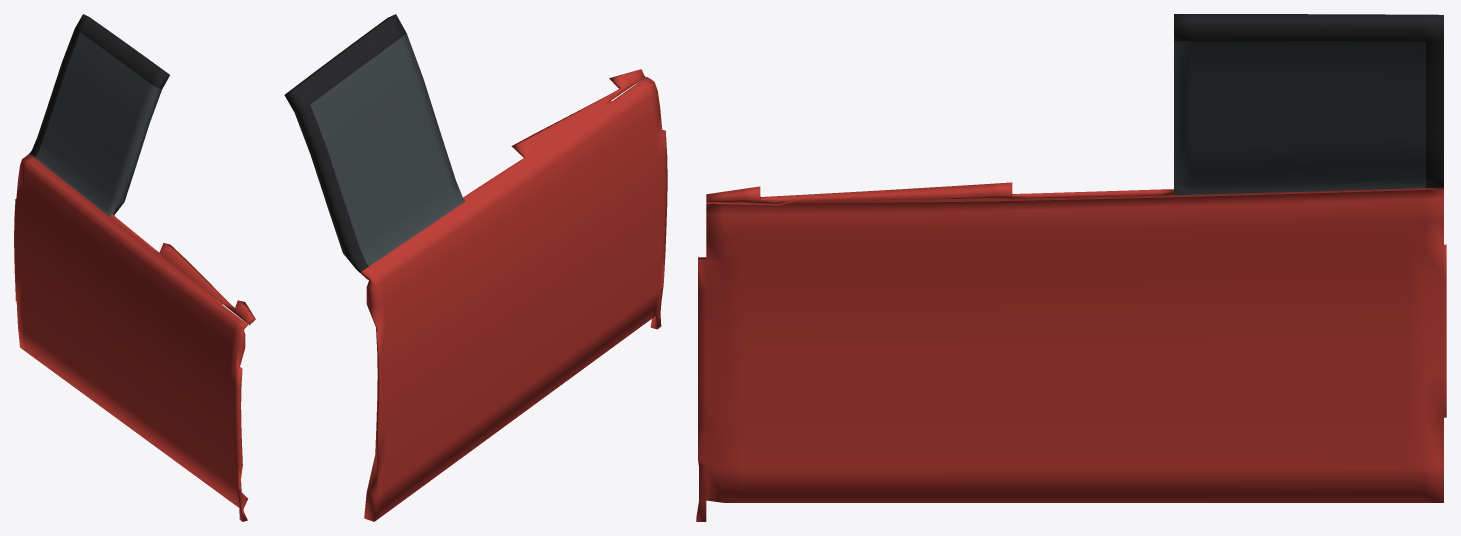
Rendered from Hatch_Door_FR.fbx.
The picture shows the model from 3 angles, left to right: view 1: azimuth 30°, elevation 25°; view 2: azimuth 150°, elevation 25°; view 3: azimuth 270°, elevation 25°; orthographic projection. The views are drawn at different scales.
Visible parts, largest first — view 1: Hatch_Door_FR_LOD0; view 2: Hatch_Door_FR_LOD0; view 3: Hatch_Door_FR_LOD0.
Boxes of the visible parts, x1=… form: Hatch_Door_FR_LOD0: x1=14, y1=14, x2=255, y2=521; Hatch_Door_FR_LOD0: x1=284, y1=14, x2=667, y2=521; Hatch_Door_FR_LOD0: x1=696, y1=14, x2=1446, y2=521.
Size of what is drawn, in the model's own units: 0.2839 by 1.19 by 1.46.
